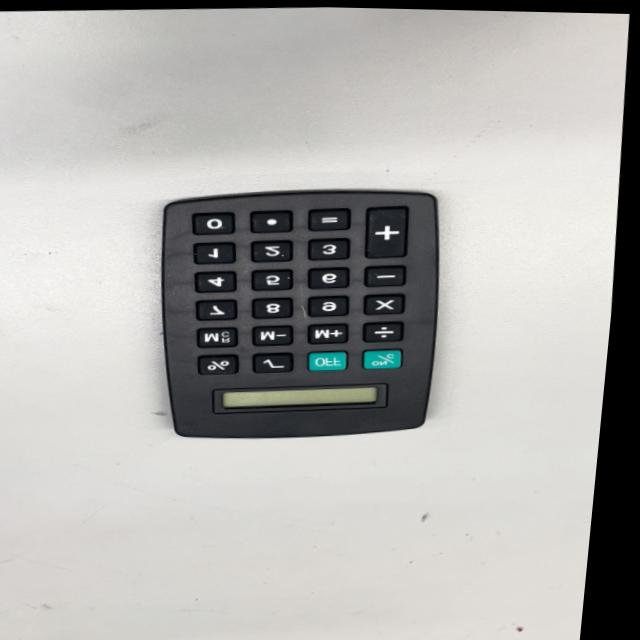calculator: (135, 177, 460, 448)
